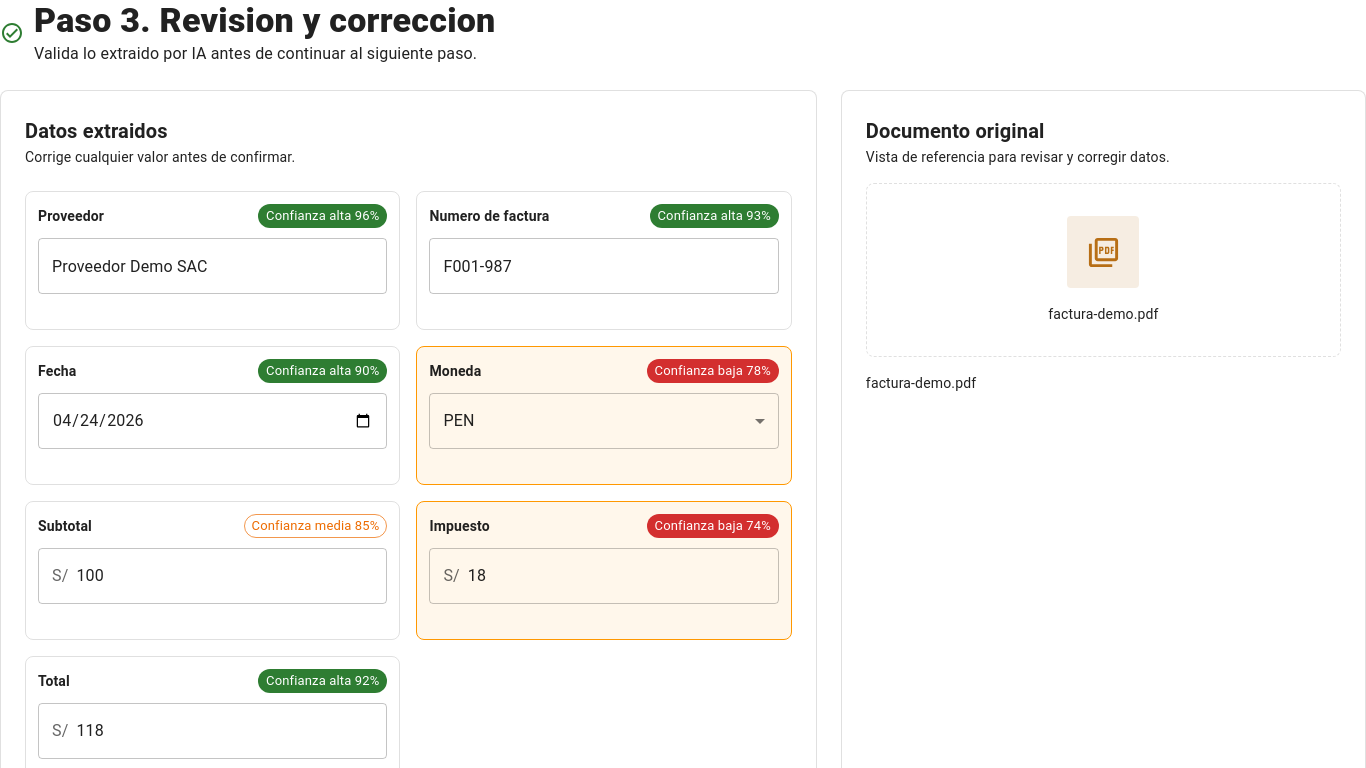
Test case: ReviewStep › shows total consistency error when total does not match subtotal plus tax
Clear the number field named "Total" at (232, 731), box [76, 703, 387, 759]
(page scrolled)
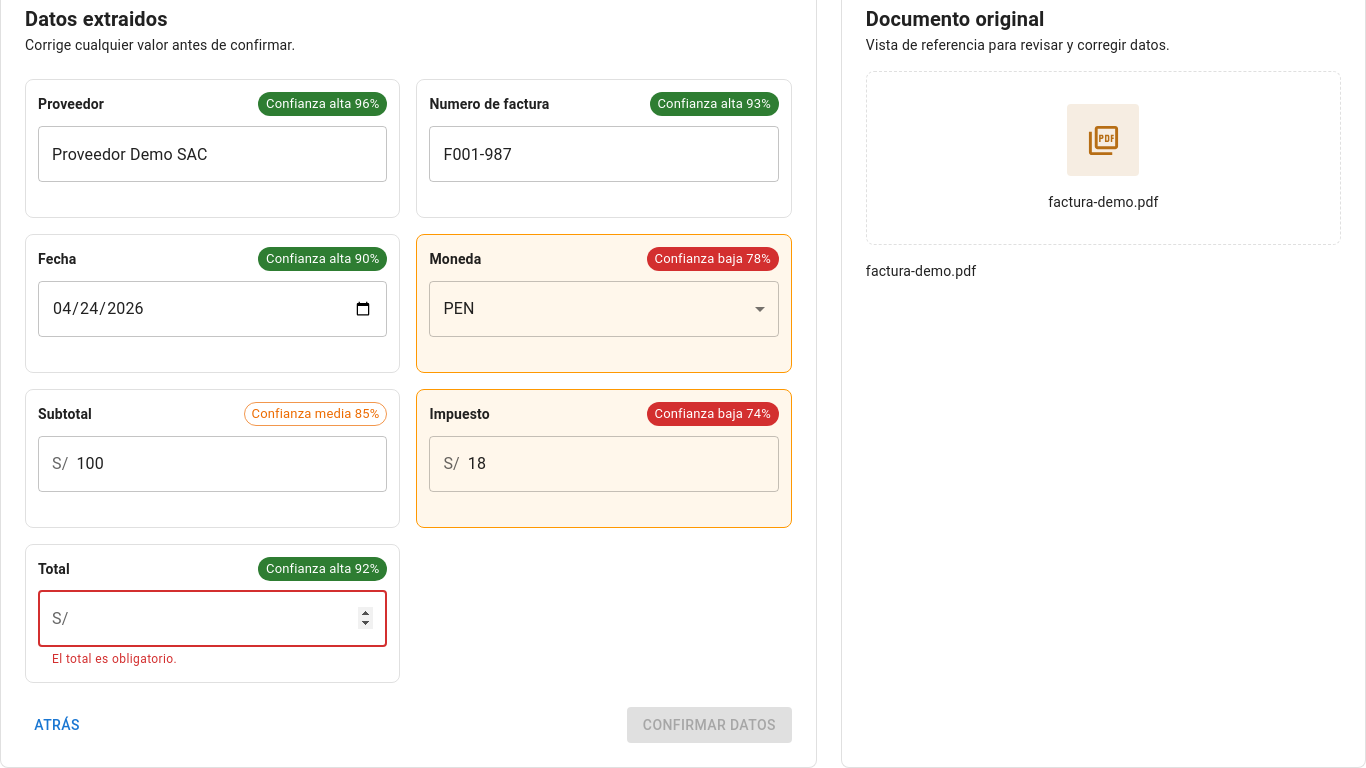
Type "90" into the number field named "Total" at (232, 619), box [76, 591, 387, 647]
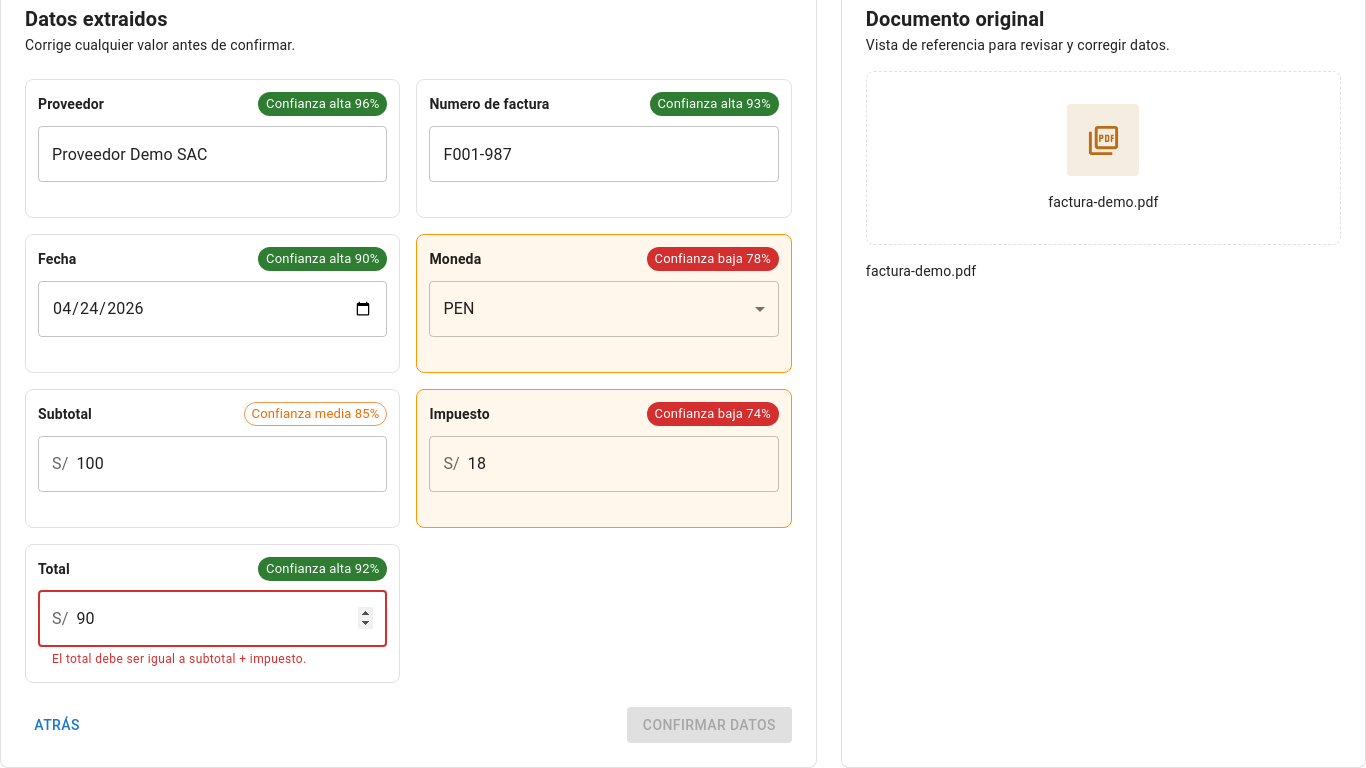
Check: the button "Confirmar datos" is disabled, box [627, 707, 792, 743]
Check: the text "El total debe ser igual a subtotal + impuesto." is shown, box [52, 652, 307, 666]
